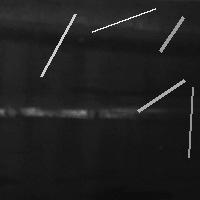scratches: (36, 9, 80, 81), (1, 104, 150, 121), (87, 4, 160, 37), (133, 75, 189, 116), (155, 12, 188, 56), (184, 82, 198, 162)
